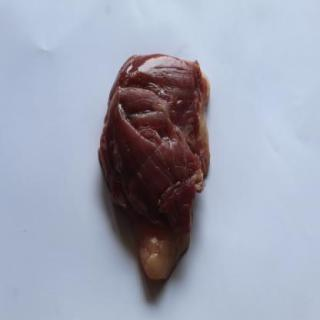Daging Sapi: (105, 54, 210, 285)
